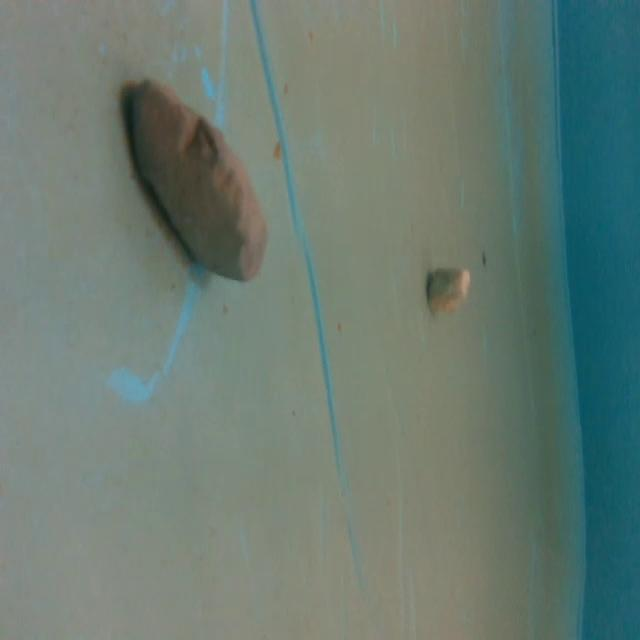rock: (126, 70, 276, 286), (425, 259, 474, 317)
